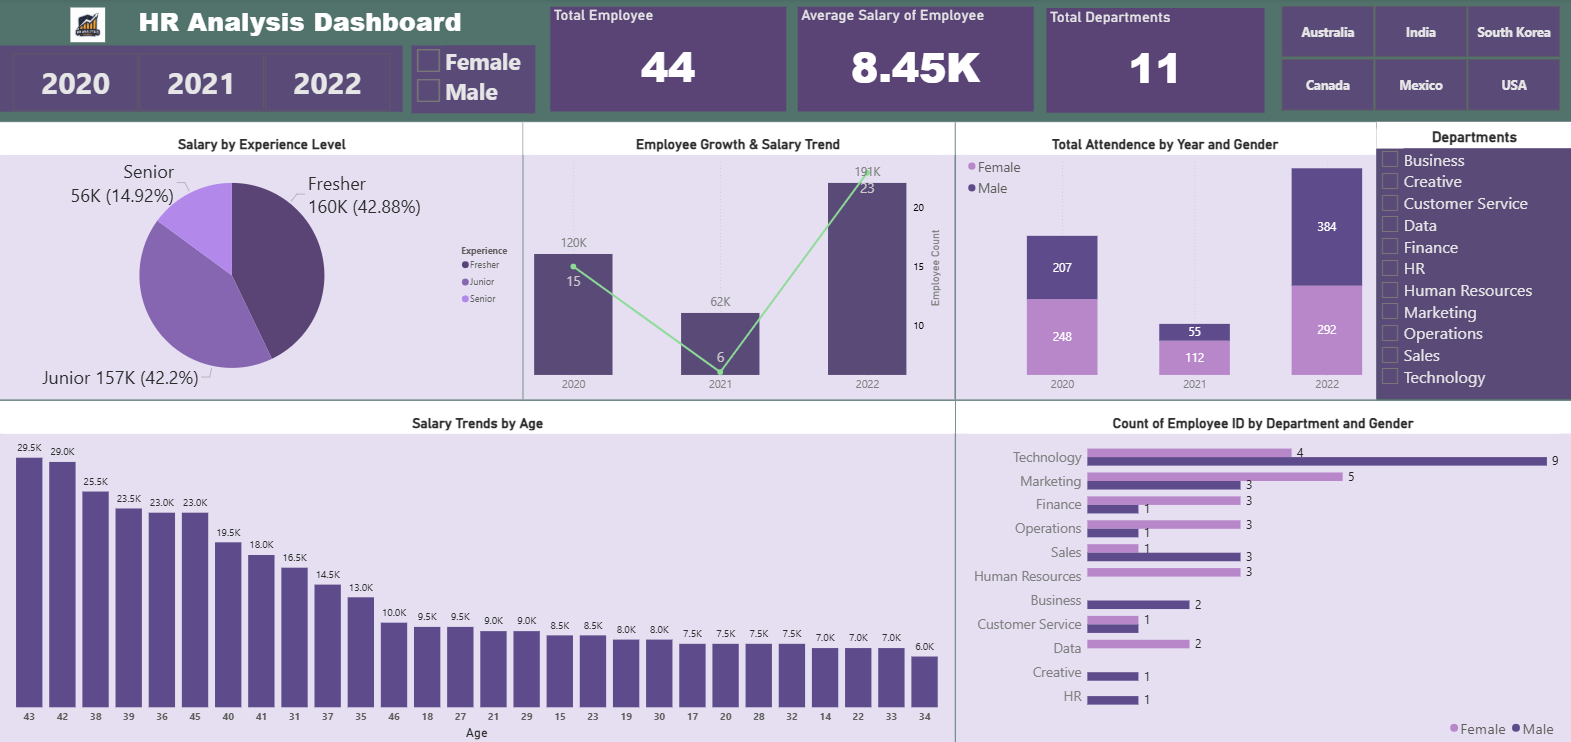

The page's visual inventory and layout, read from the dashboard file:
{"tool":"powerbi","page":{"name":"Dashboard","canvas":[2321,1100],"ordinal":0},"visuals":[{"type":"card","title":"Total Employee","fields":{"Values":["Count(Employee Details.Employee ID)"]},"box":[812.8,13,347.7,154.3],"z":0},{"type":"card","title":"Average Salary of Employee","fields":{"Values":["Avg(Employee Details.Salary)"]},"box":[1177.9,13,347.7,154.3],"z":1000},{"type":"card","title":"Total Departments","fields":{"Values":["Count(Employee Details.Department)"]},"box":[1545.2,15.2,321.6,154.3],"z":2000},{"type":"pieChart","title":"Salary by Experience Level","fields":{"Category":["Employee Details.Experience"],"Y":["Sum(Employee Details.Salary)"]},"box":[0,182.6,773.7,410.7],"z":3000},{"type":"clusteredColumnChart","title":"Salary Trends by Age","fields":{"Category":["Employee Details.Age"],"Y":["Sum(Employee Details.Salary)"]},"box":[0,593.3,1410.4,506.4],"z":4000},{"type":"lineClusteredColumnComboChart","title":"Employee Growth & Salary Trend","fields":{"Category":["Employee Details.Date of Join"],"Y":["Sum(Employee Details.Salary)"],"Y2":["CountNonNull(Employee Details.Employee ID)"]},"box":[773.2,182.1,637.5,410.7],"z":5000},{"type":"slicer","fields":{"Values":["Employee Details.Country"]},"box":[1871.6,0,449.8,167.3],"z":6000},{"type":"columnChart","title":"Total Attendence by Year and Gender","fields":{"Category":["Employee Details.Date of Join"],"Y":["Sum(Employee Details.Total Attendance)"],"Series":["Employee Details.Gender"]},"box":[1410.4,182.6,621.5,410.7],"z":7000},{"type":"clusteredBarChart","fields":{"Category":["Employee Details.Department"],"Series":["Employee Details.Gender"],"Y":["CountNonNull(Employee Details.Employee ID)"]},"box":[1410,593.5,910.5,506.9],"z":8000},{"type":"textbox","box":[89.1,4.3,617.2,69.5],"z":9000},{"type":"image","box":[89.1,8.7,84.8,60.9],"z":10000},{"type":"slicer","title":"Departments","fields":{"Values":["Employee Details.Department"]},"box":[2032,182.6,289,408.6],"z":11000},{"type":"slicer","fields":{"Values":["Employee Details.Date of Join"]},"box":[0,69.5,595.5,97.8],"z":12000},{"type":"slicer","fields":{"Values":["Employee Details.Gender"]},"box":[608.5,69.5,182.6,100],"z":13000}]}

Visuals, with their boxes in screenshot pixels (x1, y1, x2, y2), scaled from the page's 2321x1100 canvas onto the 1571x742 screenshot:
"Total Employee" card: {"left": 550, "top": 9, "right": 786, "bottom": 113}
"Average Salary of Employee" card: {"left": 797, "top": 9, "right": 1033, "bottom": 113}
"Total Departments" card: {"left": 1046, "top": 10, "right": 1264, "bottom": 114}
"Salary by Experience Level" pieChart: {"left": 0, "top": 123, "right": 524, "bottom": 400}
"Salary Trends by Age" clusteredColumnChart: {"left": 0, "top": 400, "right": 955, "bottom": 741}
"Employee Growth & Salary Trend" lineClusteredColumnComboChart: {"left": 523, "top": 123, "right": 955, "bottom": 400}
slicer - Employee Details.Country: {"left": 1267, "top": 0, "right": 1570, "bottom": 113}
"Total Attendence by Year and Gender" columnChart: {"left": 955, "top": 123, "right": 1375, "bottom": 400}
clusteredBarChart - Employee Details.Department x Employee Details.Gender: {"left": 954, "top": 400, "right": 1570, "bottom": 741}
textbox: {"left": 60, "top": 3, "right": 478, "bottom": 50}
image: {"left": 60, "top": 6, "right": 118, "bottom": 47}
"Departments" slicer: {"left": 1375, "top": 123, "right": 1570, "bottom": 399}
slicer - Employee Details.Date of Join: {"left": 0, "top": 47, "right": 403, "bottom": 113}
slicer - Employee Details.Gender: {"left": 412, "top": 47, "right": 535, "bottom": 114}
